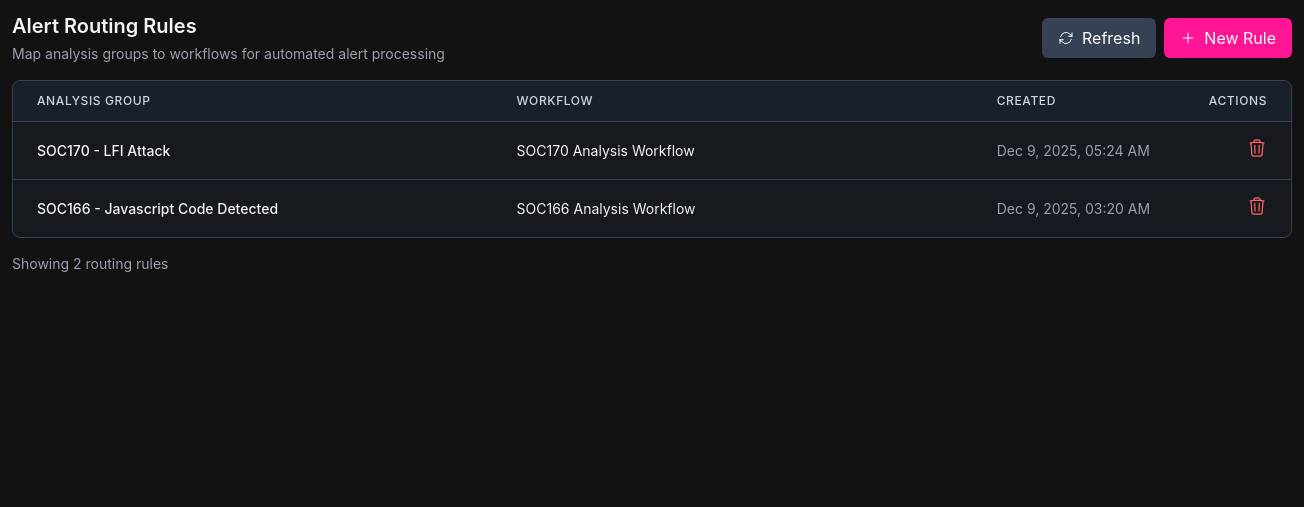
Scenario: AlertRoutingRules › shows create form when New Rule button is clicked
Expected: the text "SOC170 - LFI Attack" is shown, [37,142,170,158]
Step 1. Click the button "New Rule" → (1228, 38), box [1164,18,1292,58]
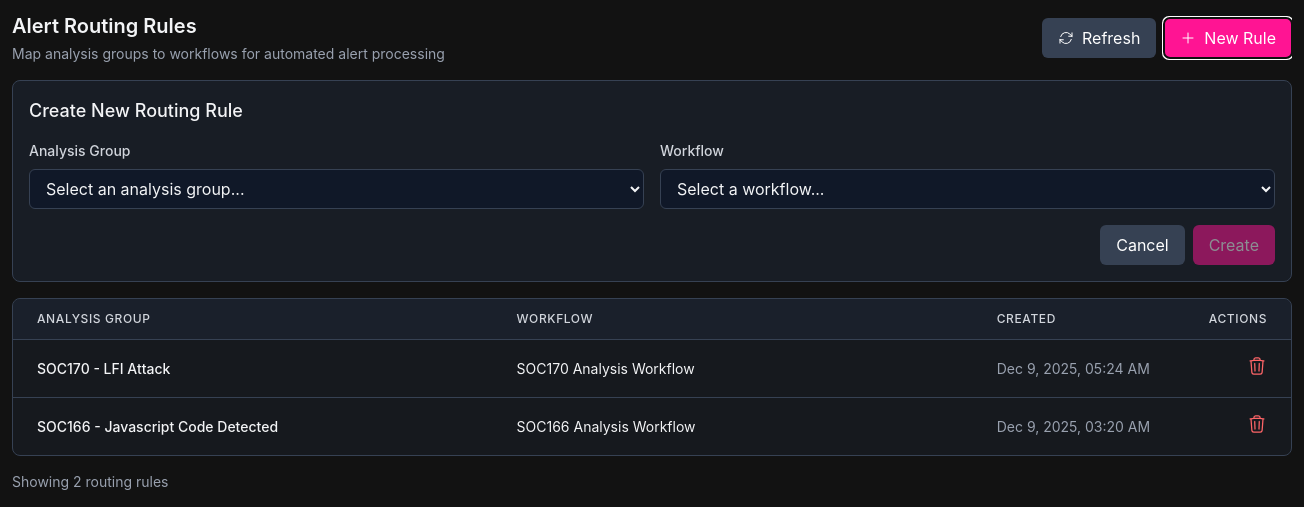
Now the heading "Create New Routing Rule" is shown, box [29,100,243,121]
Now the dropdown labelled "Analysis Group" is shown, box [29,169,644,209]
Now the dropdown labelled "Workflow" is shown, box [660,169,1275,209]
